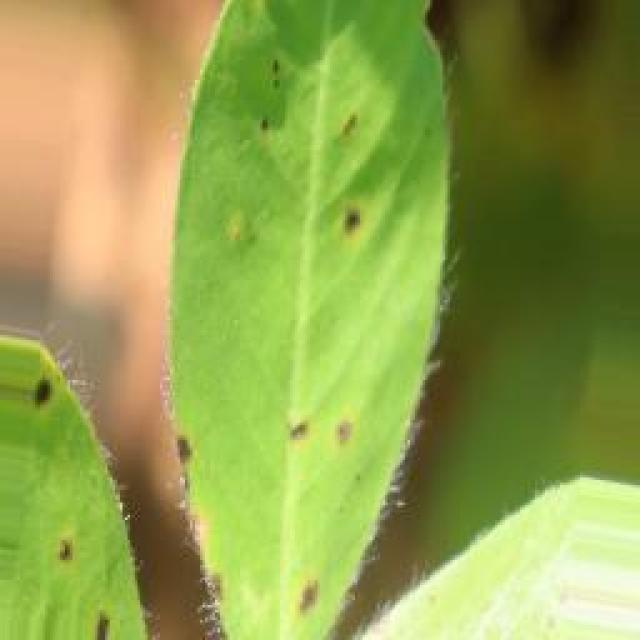Sigatoka: (244, 42, 296, 161), (289, 414, 372, 456), (158, 438, 198, 508), (43, 524, 86, 583), (15, 360, 60, 415), (277, 566, 329, 612), (333, 198, 374, 256), (206, 562, 246, 616), (225, 204, 255, 256), (335, 108, 360, 154), (88, 604, 112, 640)
